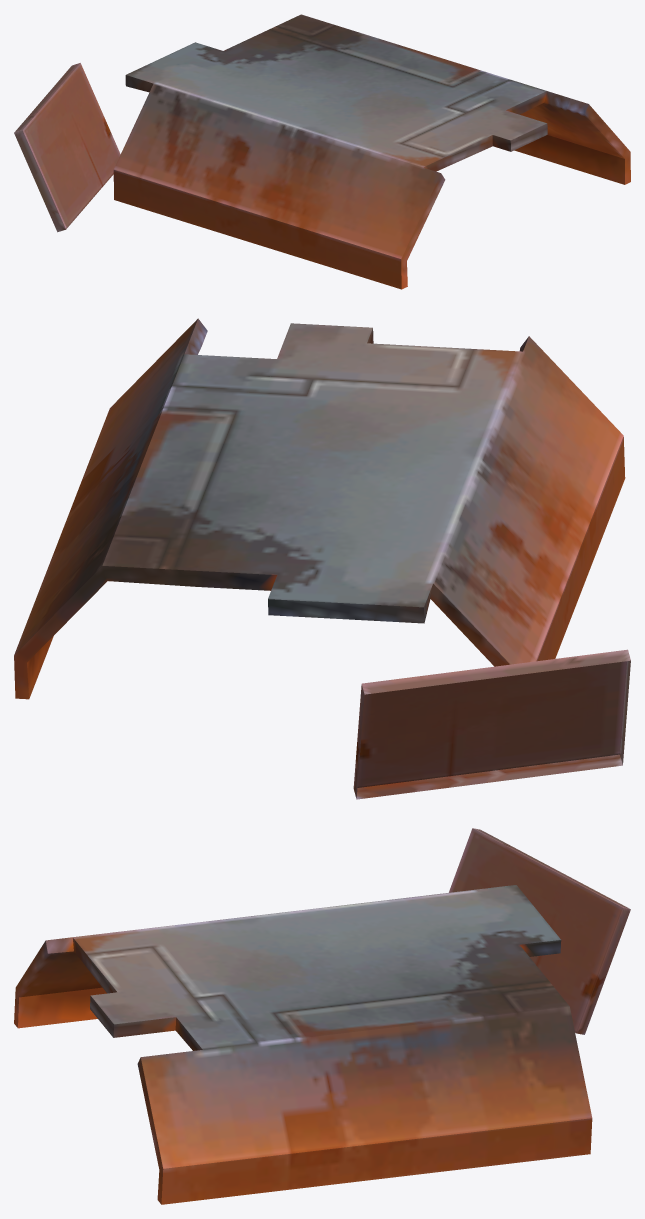
The model's file is Debris_02_real.fbx.
3 renders of one model, top to bottom at view 1: azimuth 30°, elevation 25°; view 2: azimuth 150°, elevation 25°; view 3: azimuth 270°, elevation 25°, orthographic. The views are drawn at different scales.
Visible parts, largest first — view 1: Debris06; view 2: Debris06; view 3: Debris06.
Boxes of the visible parts, bbox=[...] form: Debris06: bbox=[14, 14, 630, 289]; Debris06: bbox=[14, 318, 630, 799]; Debris06: bbox=[14, 828, 630, 1204].
Size of the model in its own units: 34.28 by 31 by 8.67.
